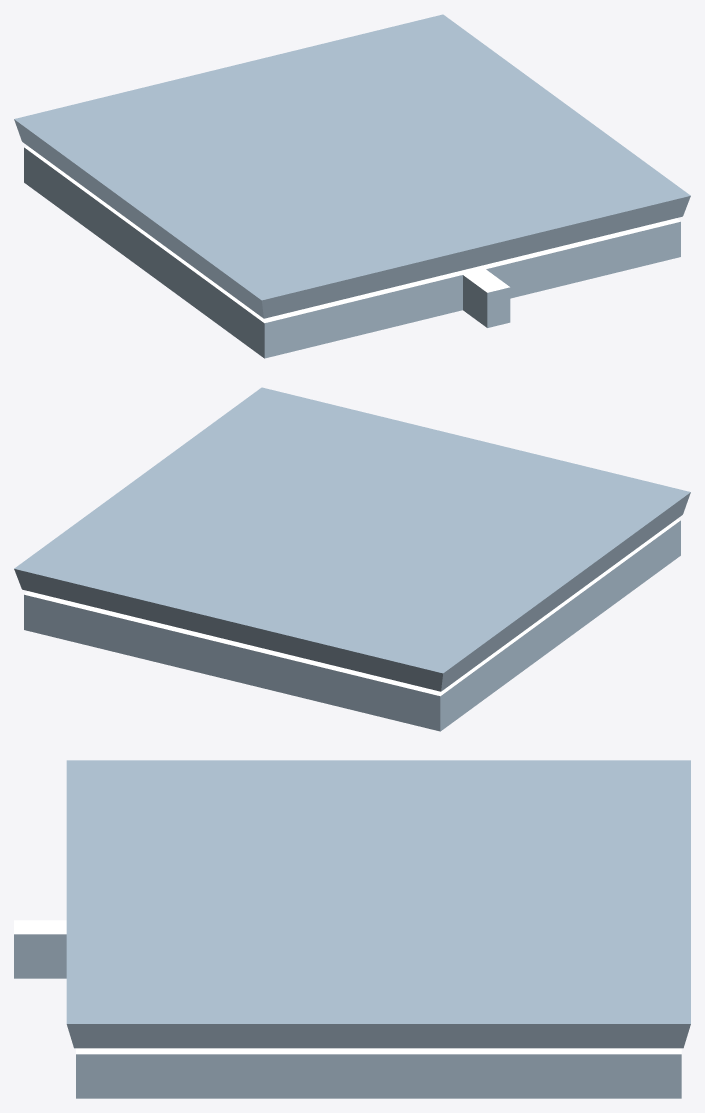
The model's file is store.glb.
3 renders of one model, top to bottom at view 1: azimuth 30°, elevation 25°; view 2: azimuth 150°, elevation 25°; view 3: azimuth 270°, elevation 25°, orthographic. The views are drawn at different scales.
Visible parts, largest first — view 1: Cube; view 2: Cube; view 3: Cube.
Boxes of the visible parts, x1=… form: Cube: x1=14, y1=14, x2=690, y2=358; Cube: x1=14, y1=387, x2=690, y2=731; Cube: x1=14, y1=760, x2=690, y2=1098.
Bounding box in the file's own units: 366 × 50.85 × 397.
